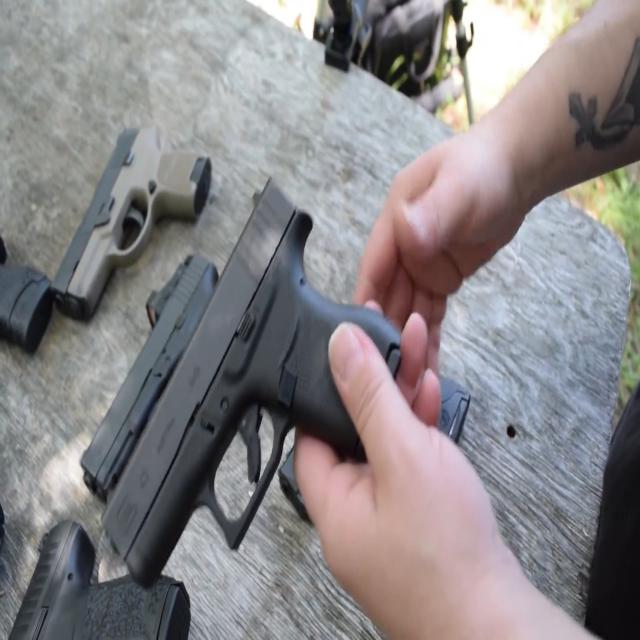handgun: (101, 195, 466, 554), (68, 248, 265, 507), (47, 114, 225, 322)
